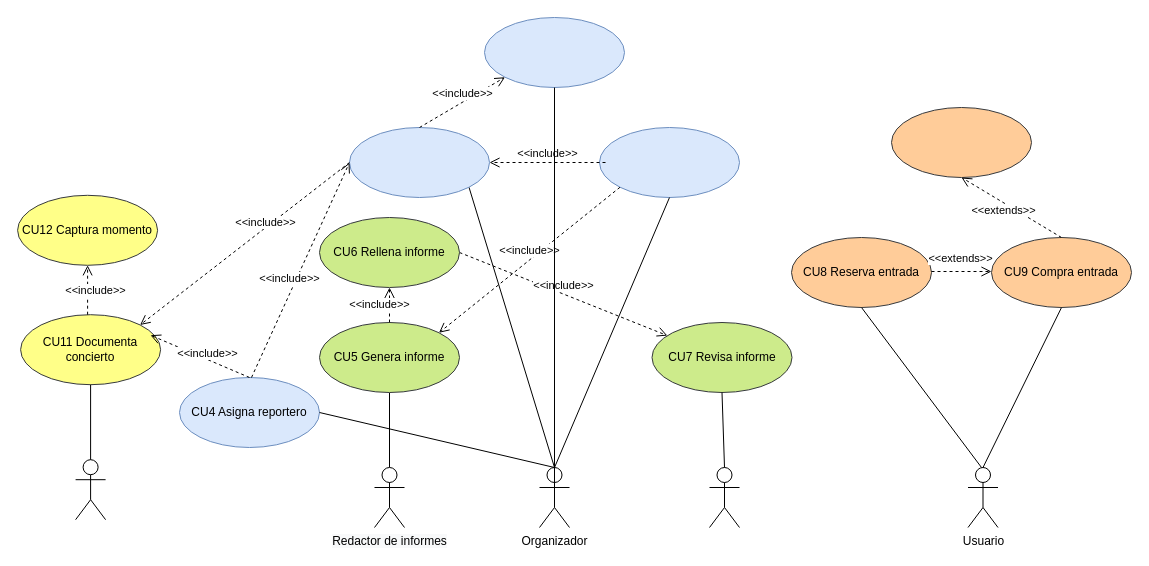
Image size: 1149x566. Some labels were removed from this diagram. Each missing label, with the box of its shape:
CU1 Organiza gira: (598, 126, 740, 198)
CU10 Usa descuento: (890, 106, 1032, 178)
CU2 Organiza concierto: (348, 126, 490, 198)
CU3 Organiza actuaciones: (484, 16, 624, 88)
Reporteros: (75, 459, 106, 520)
Supervisor: (708, 466, 740, 528)
